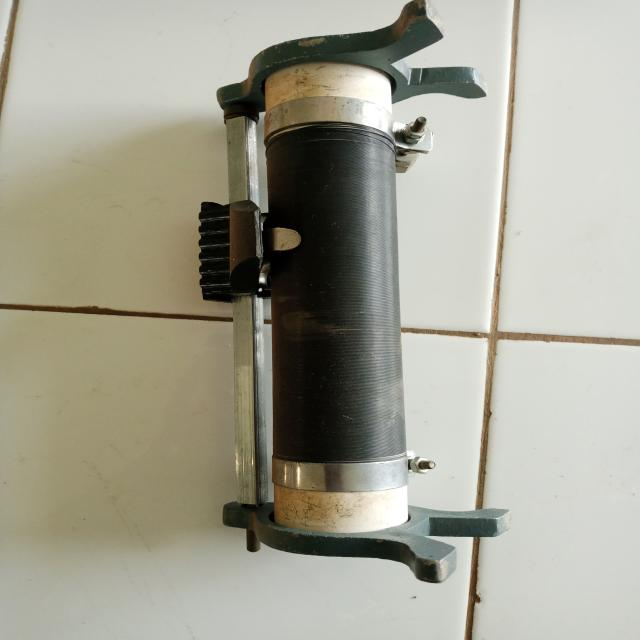Rheostat: (167, 0, 546, 598)
